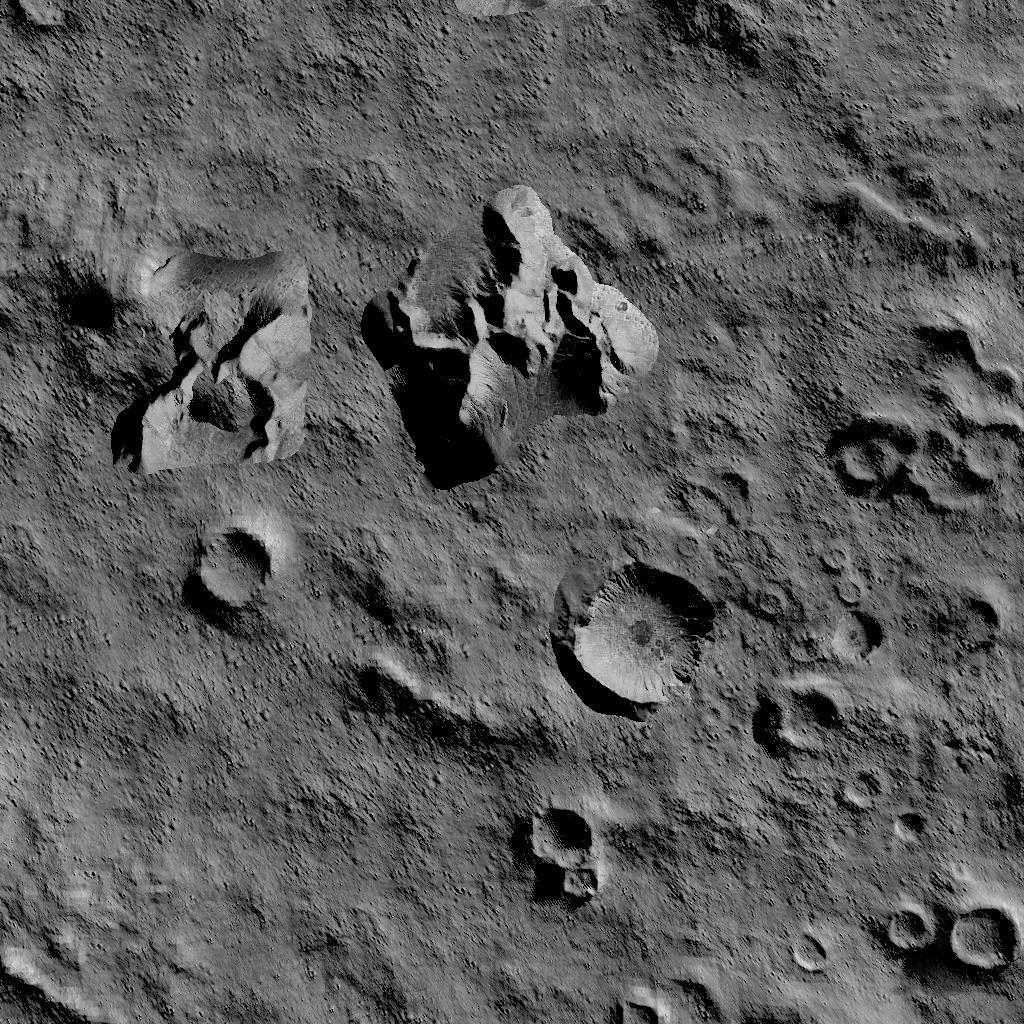Boulders: (365, 176, 656, 486), (51, 220, 319, 473)
Crater: (829, 316, 1024, 514), (561, 552, 717, 716), (885, 900, 1024, 984), (189, 520, 283, 618), (751, 674, 853, 764), (523, 798, 610, 902), (947, 584, 1004, 657), (827, 606, 879, 665), (785, 924, 832, 976), (833, 772, 888, 812), (607, 988, 668, 1024), (897, 808, 933, 844)
Plan surface: (3, 628, 357, 968), (669, 62, 818, 457), (83, 0, 351, 209), (365, 748, 517, 1024), (366, 22, 656, 166), (827, 0, 1024, 192), (5, 480, 181, 617)
